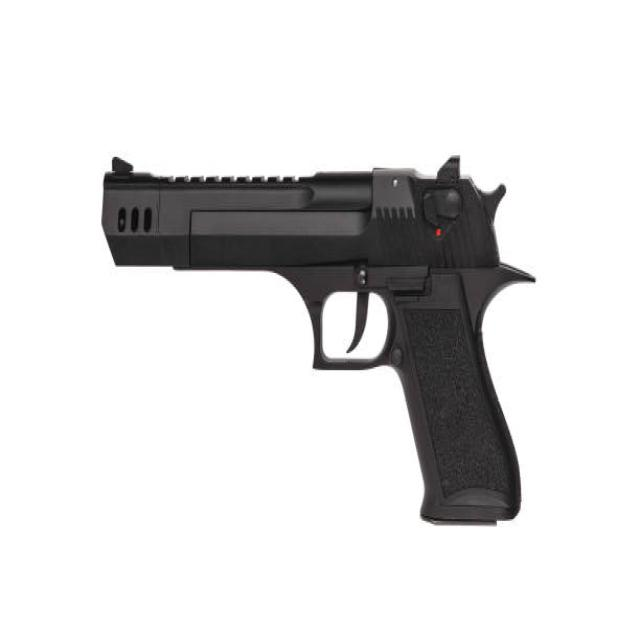pistol: (100, 152, 540, 535)
